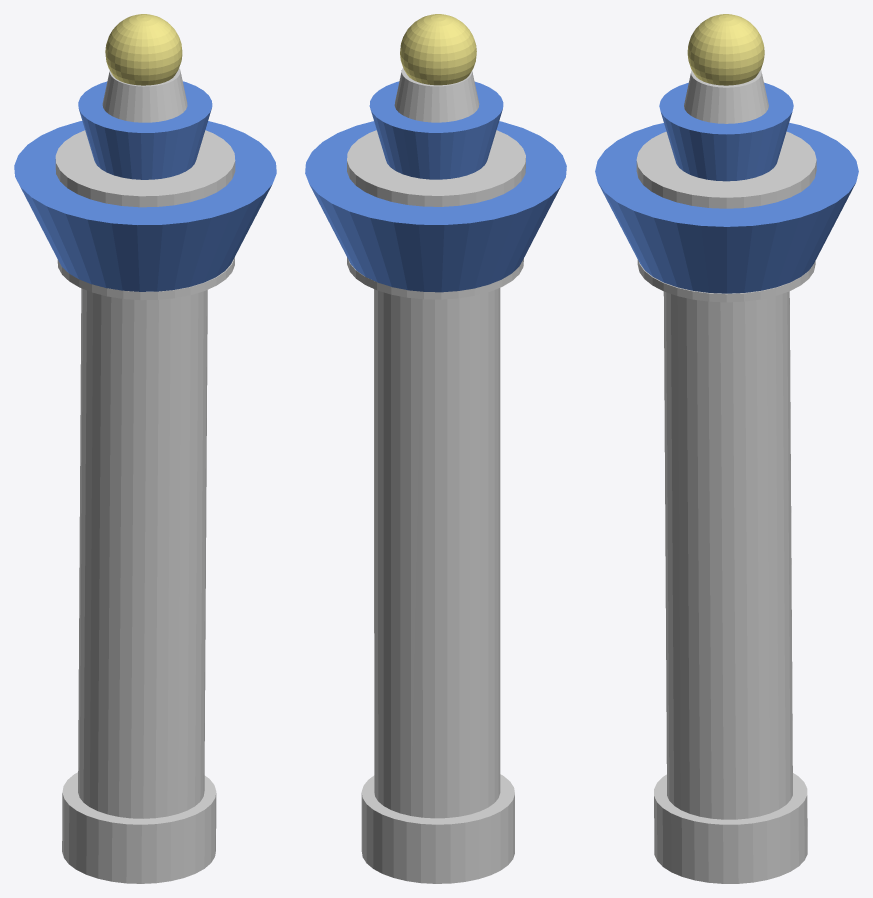
Rendered from ChangiTower.obj.
3 renders of one model, left to right at view 1: azimuth 30°, elevation 25°; view 2: azimuth 150°, elevation 25°; view 3: azimuth 270°, elevation 25°, orthographic.
Visible parts, largest first — view 1: Body_Cylinder, Head_Cylinder.004, Foot_Cylinder.001, Tip_Cylinder.005, plateOnHead_Cylinder.002, Sphere, tipTip_Cylinder.006, UnderdHead_Cylinder.003; view 2: Body_Cylinder, Head_Cylinder.004, Foot_Cylinder.001, Tip_Cylinder.005, plateOnHead_Cylinder.002, Sphere, tipTip_Cylinder.006, UnderdHead_Cylinder.003; view 3: Body_Cylinder, Head_Cylinder.004, Foot_Cylinder.001, Tip_Cylinder.005, plateOnHead_Cylinder.002, Sphere, tipTip_Cylinder.006, UnderdHead_Cylinder.003.
Boxes of the visible parts, x1,y1,x2,y2 form: Body_Cylinder: (78, 288, 207, 818); Head_Cylinder.004: (14, 121, 276, 291); Foot_Cylinder.001: (62, 772, 216, 883); Tip_Cylinder.005: (78, 81, 212, 179); plateOnHead_Cylinder.002: (55, 130, 235, 207); Sphere: (105, 14, 182, 85); tipTip_Cylinder.006: (102, 68, 187, 122); UnderdHead_Cylinder.003: (57, 257, 234, 300); Body_Cylinder: (374, 288, 500, 818); Head_Cylinder.004: (305, 121, 566, 292); Foot_Cylinder.001: (361, 774, 514, 883); Tip_Cylinder.005: (369, 81, 503, 179); plateOnHead_Cylinder.002: (347, 130, 525, 206); Sphere: (400, 14, 476, 85); tipTip_Cylinder.006: (394, 67, 479, 122); UnderdHead_Cylinder.003: (347, 257, 523, 299); Body_Cylinder: (663, 291, 792, 819); Head_Cylinder.004: (595, 122, 858, 293); Foot_Cylinder.001: (654, 773, 807, 883); Tip_Cylinder.005: (659, 82, 793, 181); plateOnHead_Cylinder.002: (636, 131, 816, 208); Sphere: (687, 14, 764, 85); tipTip_Cylinder.006: (684, 70, 768, 123); UnderdHead_Cylinder.003: (637, 260, 815, 302).
Bounding box in the file's own units: 4.16 × 14.57 × 4.17.
